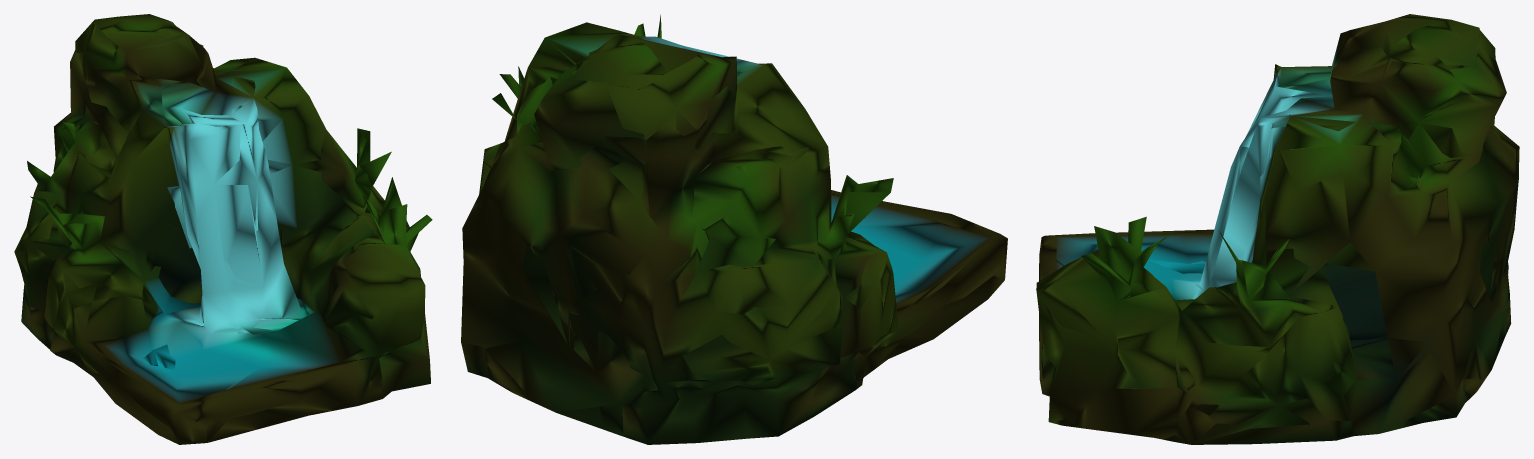
File: gen3d-jungle-waterfall-lod0.glb
3 renders of one model, left to right at view 1: azimuth 30°, elevation 25°; view 2: azimuth 150°, elevation 25°; view 3: azimuth 270°, elevation 25°, orthographic. The views are drawn at different scales.
Parts seen in each view (by area): view 1: part_0; view 2: part_0; view 3: part_0.
Part boxes in pixels (box(x1,y1,x2,y2)): part_0: box(14, 14, 432, 444); part_0: box(461, 14, 1007, 444); part_0: box(1036, 14, 1519, 444).
Bounding box in the file's own units: 1.23 × 0.9822 × 1.35.
